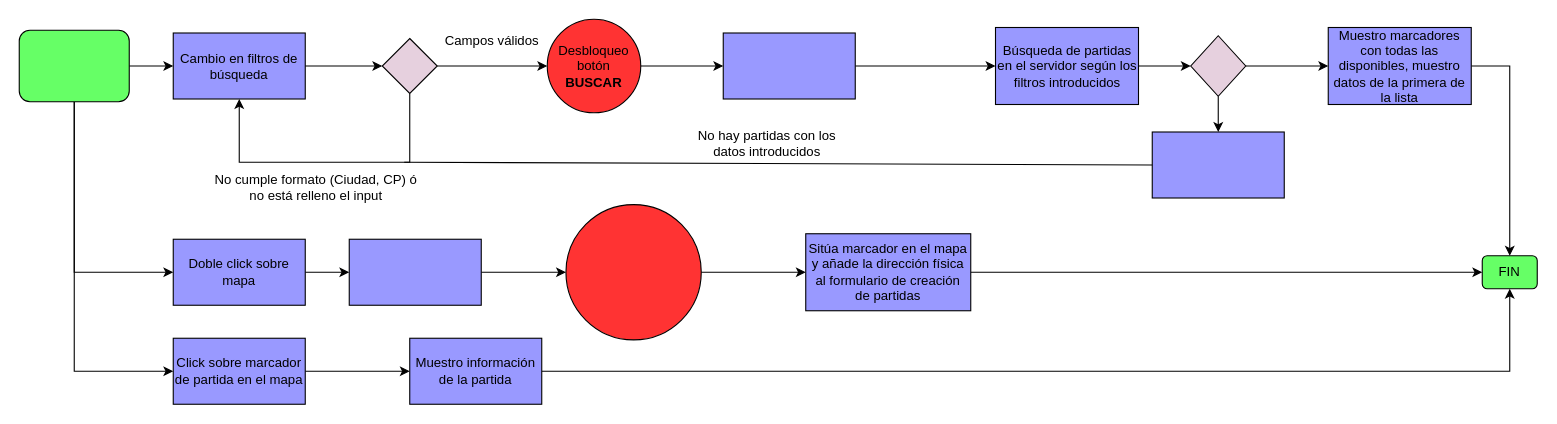
The diagram is 1557 pixels wide and 424 high, and some of its shapes have lost their labels. Here are the shapes that lost their labels. From the top down, the centre of each, then its label:
[73,65]: Carga mapa de partidas según datos de usuario
[788,65]: Pulsa botón BUSCAR
[1217,164]: Muestro mapa sin marcadores y con mensaje informativo
[414,271]: Obtiene latitud y longitud
[633,272]: Llamada a API de Google de geolocation con latitud y longitud obtenidos
